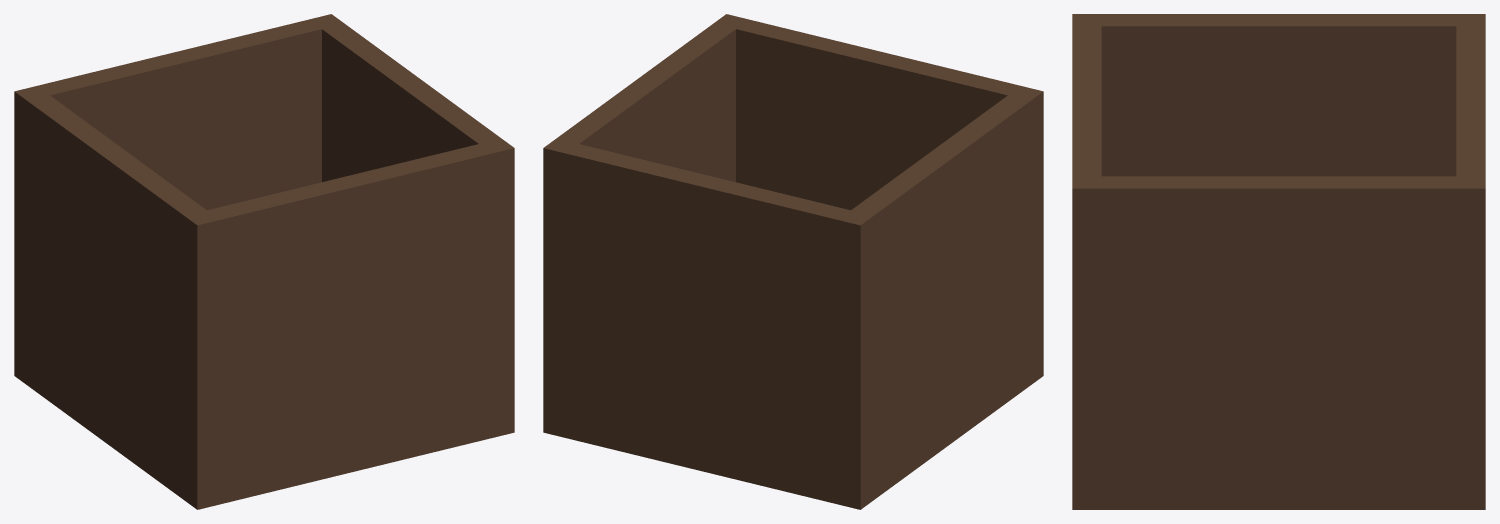
The model's file is Pot.obj.
The picture shows the model from 3 angles, left to right: view 1: azimuth 30°, elevation 25°; view 2: azimuth 150°, elevation 25°; view 3: azimuth 270°, elevation 25°; orthographic projection. The views are drawn at different scales.
Visible parts, largest first — view 1: cube, buttom; view 2: cube, buttom; view 3: cube, buttom.
Part boxes in pixels (box(x1,y1,x2,y2)): cube: box(14, 14, 514, 486); buttom: box(14, 352, 514, 509); cube: box(543, 14, 1043, 486); buttom: box(543, 352, 1043, 509); cube: box(1072, 14, 1485, 483); buttom: box(1072, 483, 1485, 509).
Bounding box in the file's own units: 0.875 × 0.75 × 0.875.
4 materials, 3 textured.
